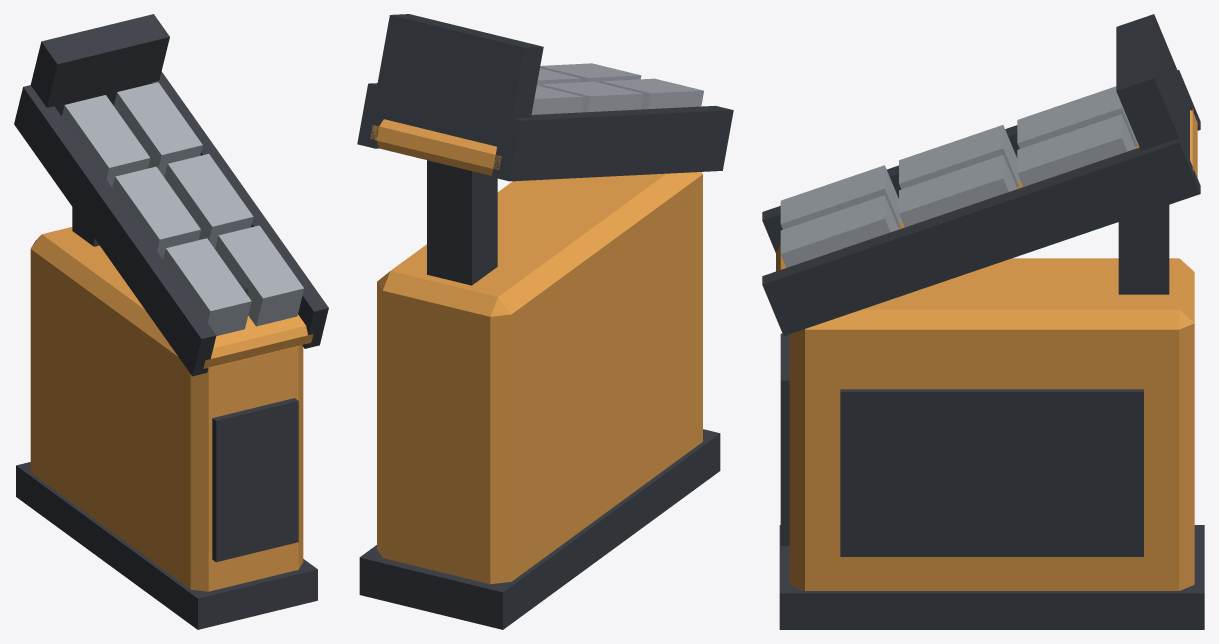
The model's file is artillery_m1_2.glb.
The picture shows the model from 3 angles, left to right: view 1: azimuth 30°, elevation 25°; view 2: azimuth 150°, elevation 25°; view 3: azimuth 270°, elevation 25°; orthographic projection. The views are drawn at different scales.
Parts seen in each view (by area): view 1: artillery_m1_2_mesh; view 2: artillery_m1_2_mesh; view 3: artillery_m1_2_mesh.
Part boxes in pixels (x1,y1,x2,y2): artillery_m1_2_mesh: (14,14,328,629); artillery_m1_2_mesh: (357,14,733,629); artillery_m1_2_mesh: (762,14,1204,629).
Size of the model in its own units: 0.17 by 0.5992 by 0.437.
